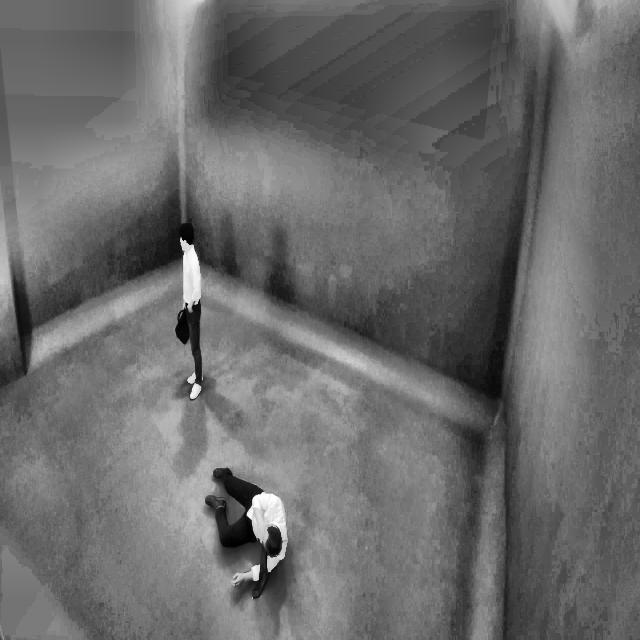assult: (166, 209, 296, 605), (204, 442, 298, 597)
